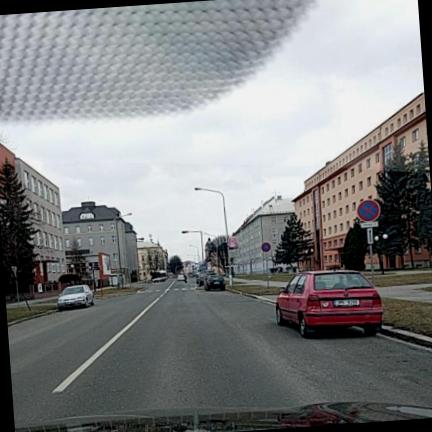Road: (8, 281, 431, 424)
